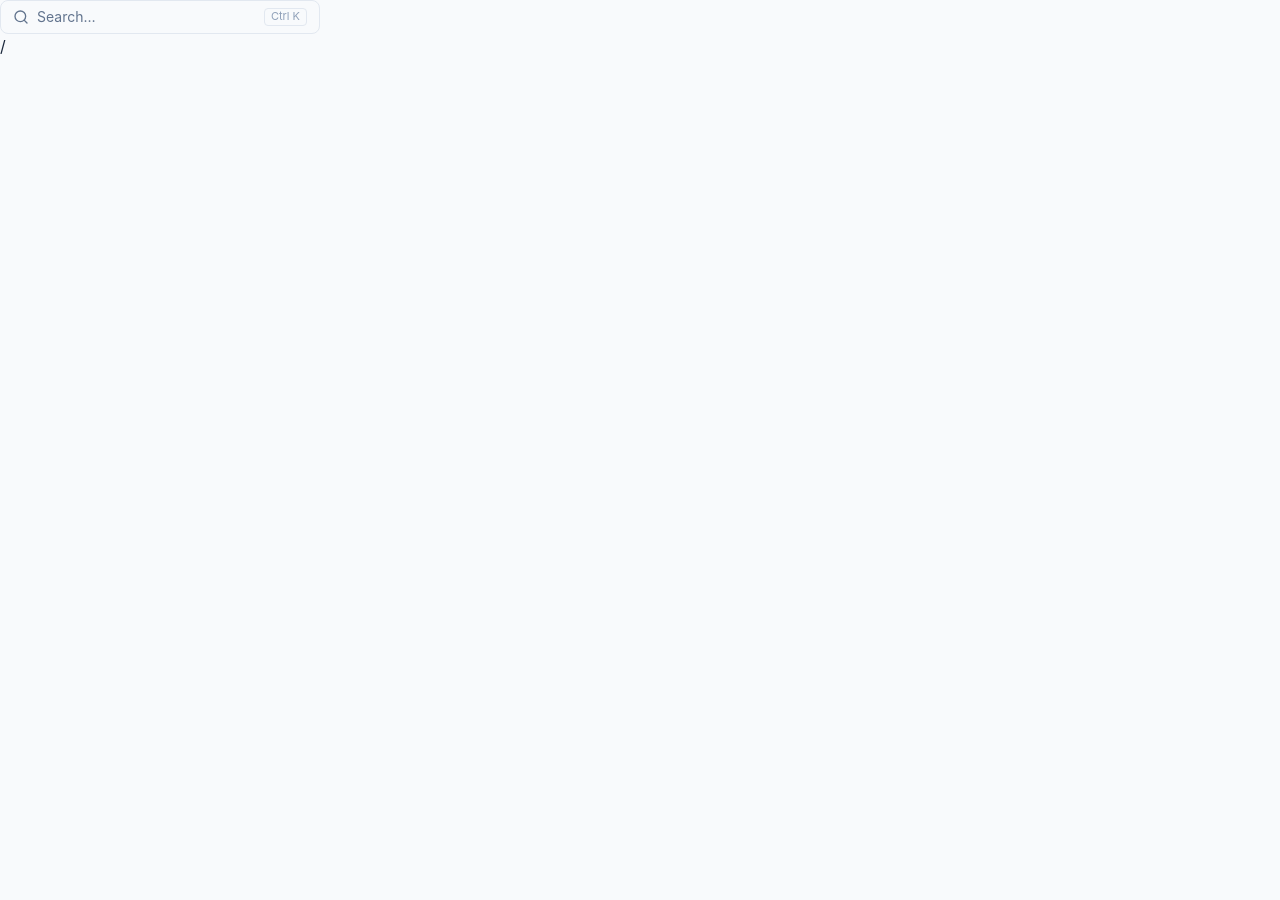
Test: command palette › opens with Ctrl+K, shows matching pages and debounced records, and navigates with the keyboard
Type keys "{Control>}k{/Control}"
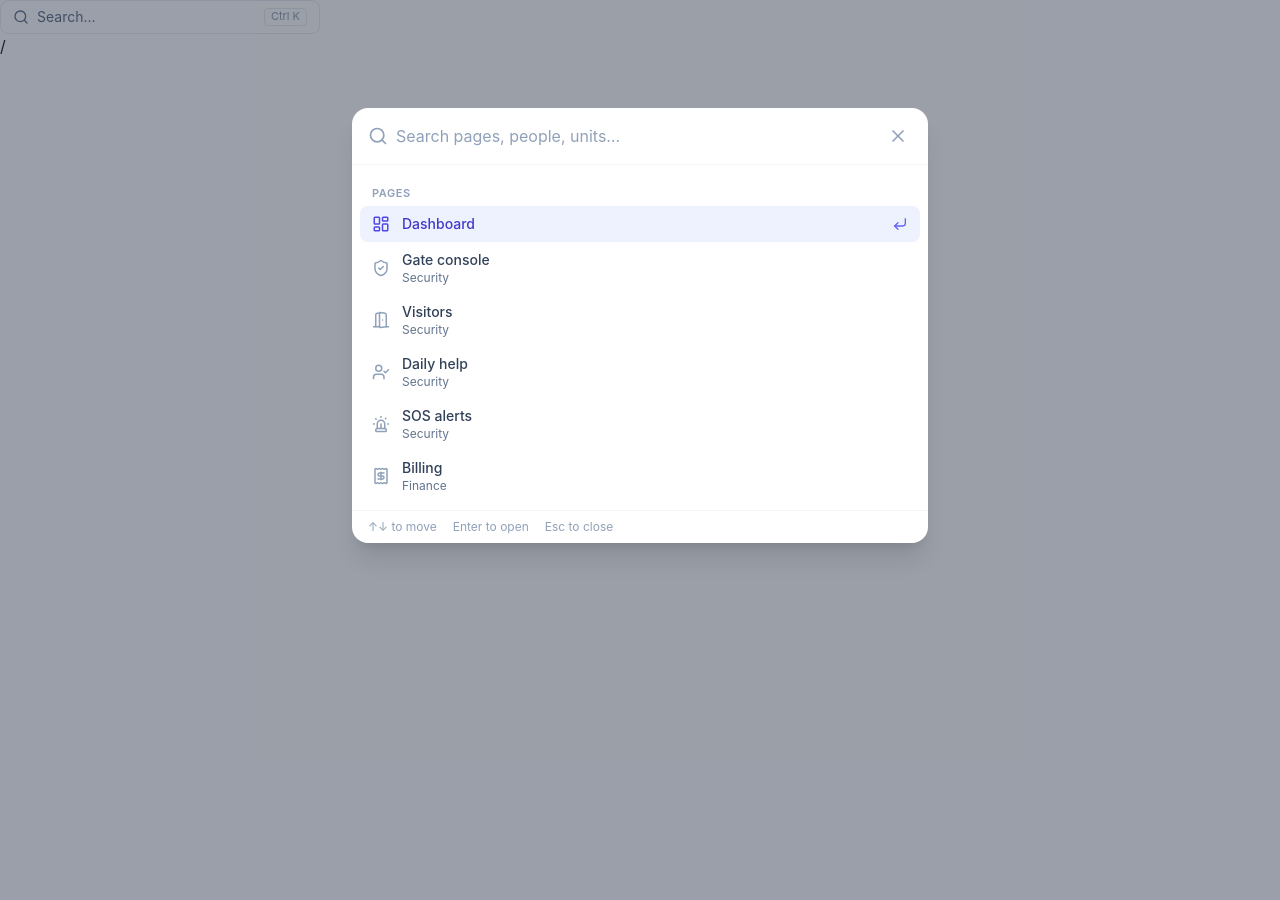
Type "bill" into the dropdown named "search pages and records".
click(636, 136); type("bill")  # box [396,108,876,164]
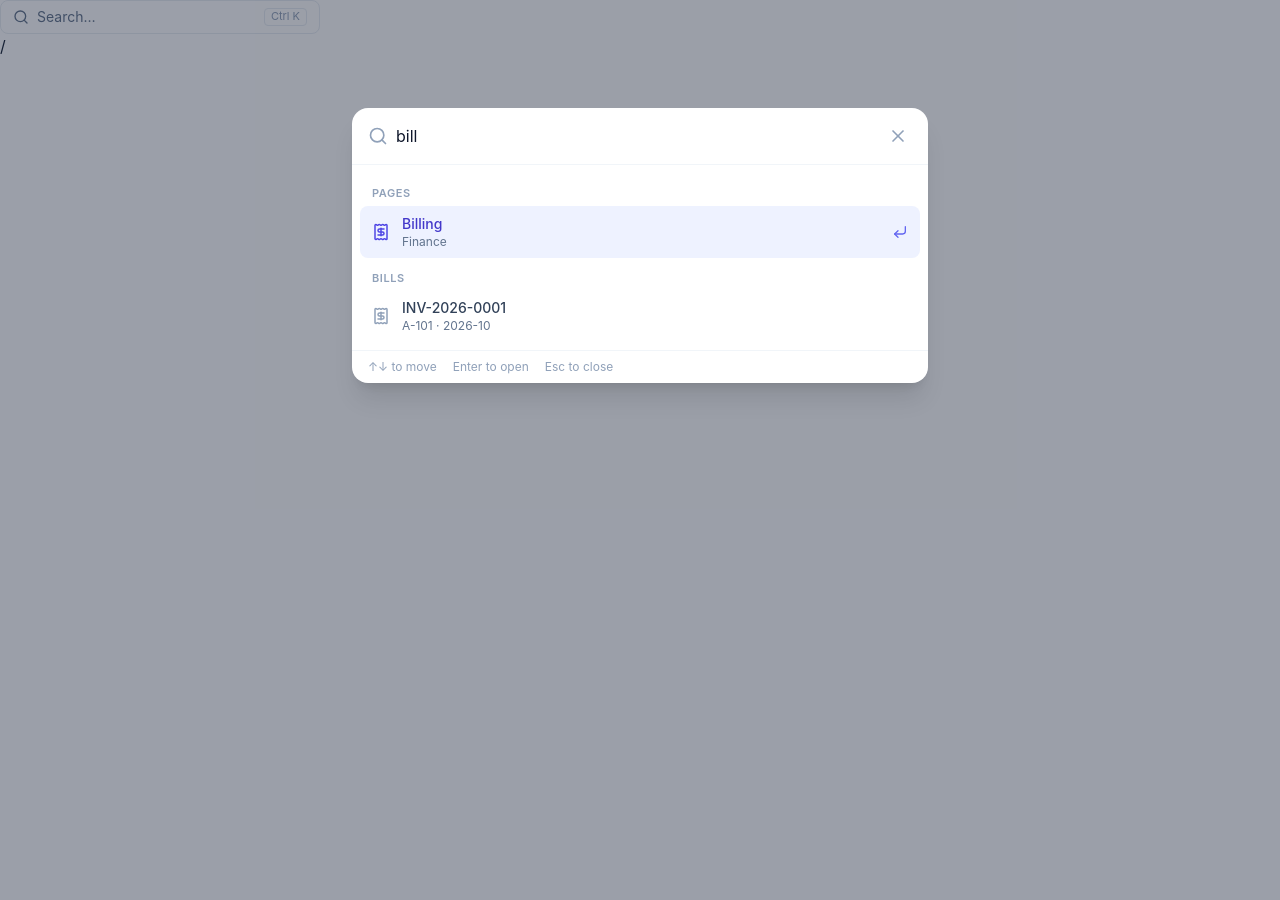
Expected: the option "INV-2026-0001 A-101 · 2026-10" is shown, [372,299,506,333]
Press Arrowdown
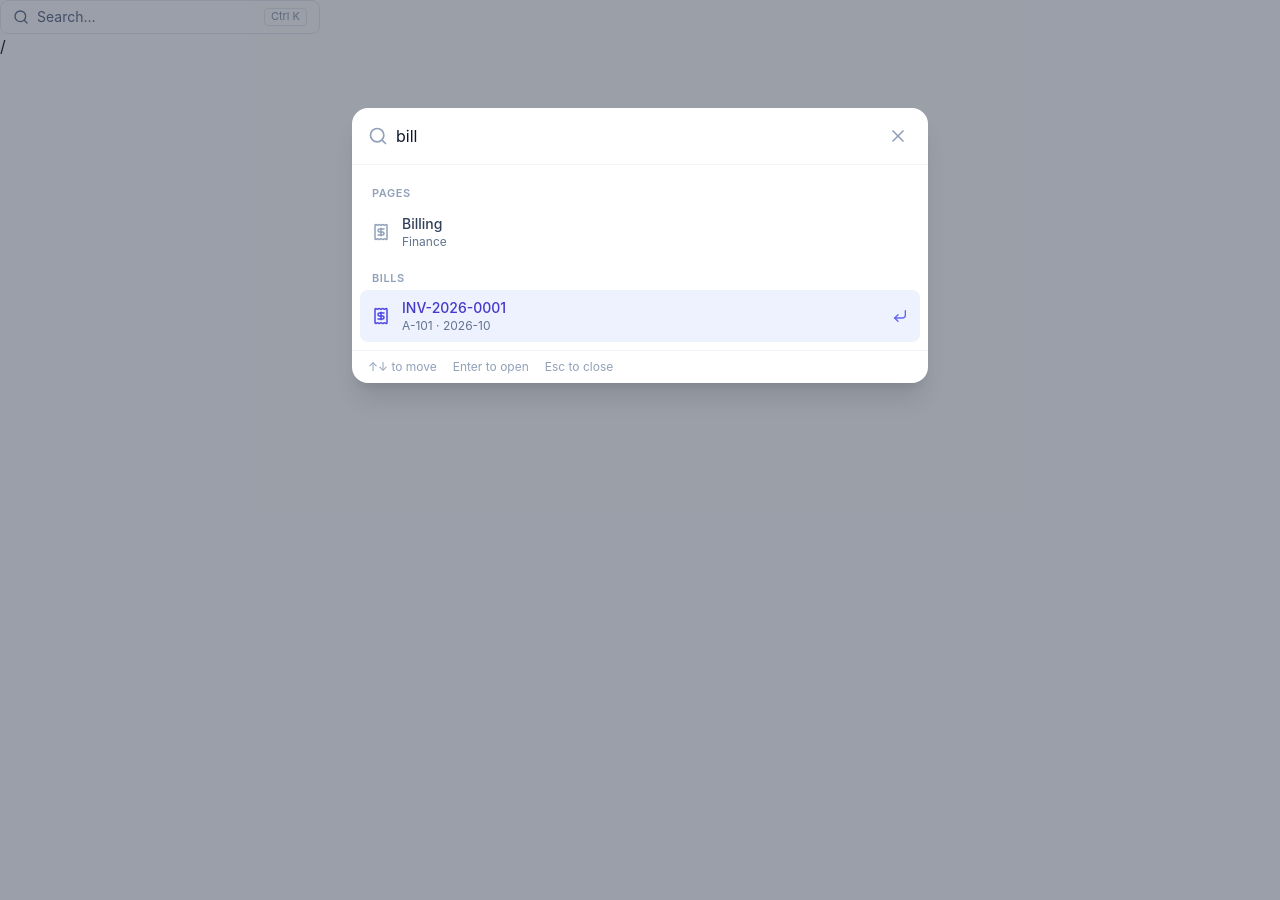
Press Enter
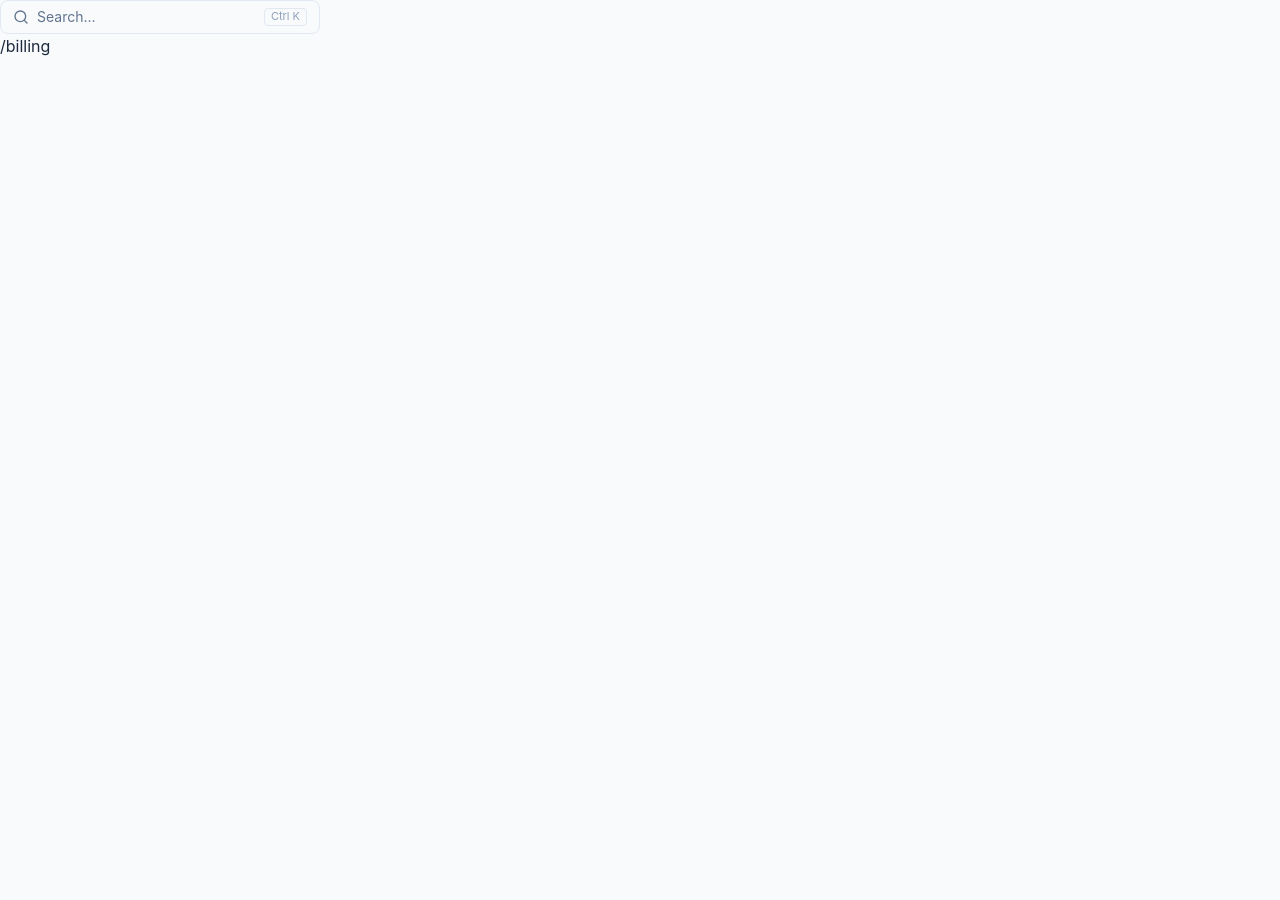
Expected: the dialog is gone
Expected: the text with test id "where" reads "/billing", [0,36,50,56]
